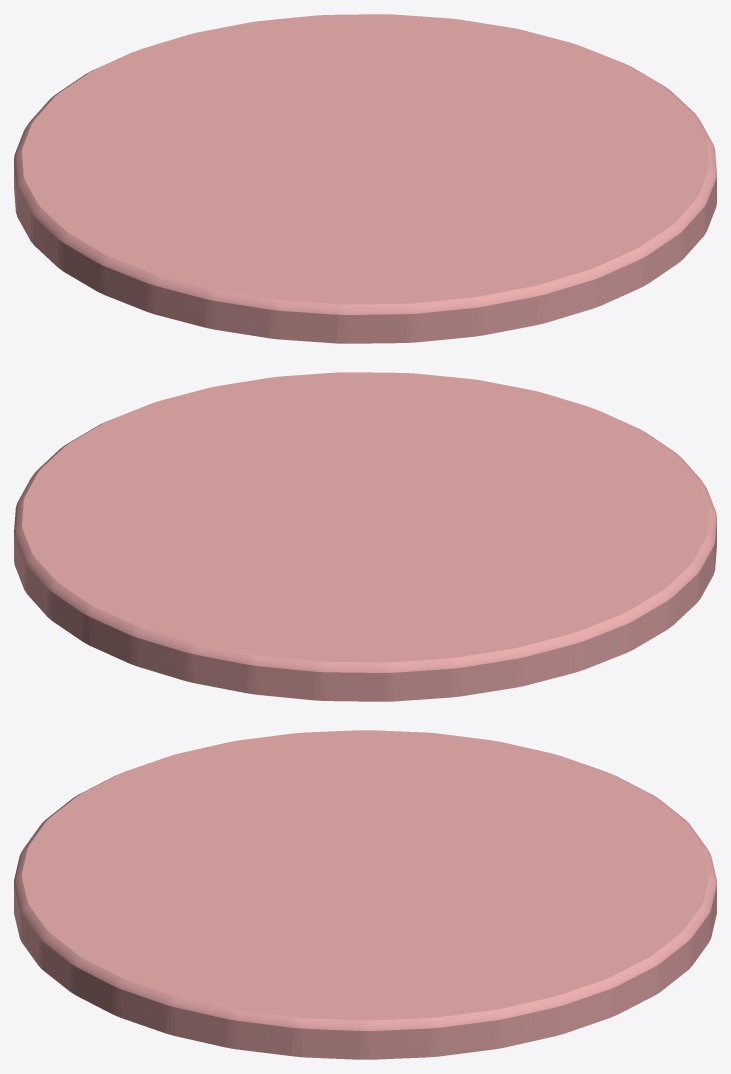
Rendered from pattyHalf.fbx.
3 views of the same model, one above another, from view 1: azimuth 30°, elevation 25°; view 2: azimuth 150°, elevation 25°; view 3: azimuth 270°, elevation 25° (orthographic).
Parts seen in each view (by area): view 1: pattyHalf; view 2: pattyHalf; view 3: pattyHalf.
Part boxes in pixels (<box>): pattyHalf: <box>14,14,716,343</box>; pattyHalf: <box>14,372,716,701</box>; pattyHalf: <box>14,730,716,1059</box>.
Bounding box in the file's own units: 19.53 × 1.1 × 19.53.
